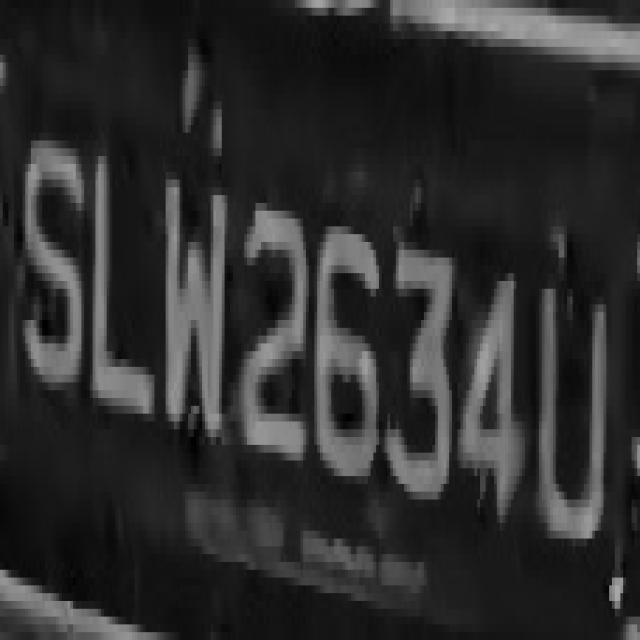2: (230, 140, 312, 492)
3: (388, 211, 458, 507)
4: (454, 211, 516, 546)
6: (306, 179, 385, 492)
L: (87, 132, 157, 452)
S: (14, 101, 90, 422)
U: (530, 226, 612, 554)
W: (160, 125, 230, 468)
